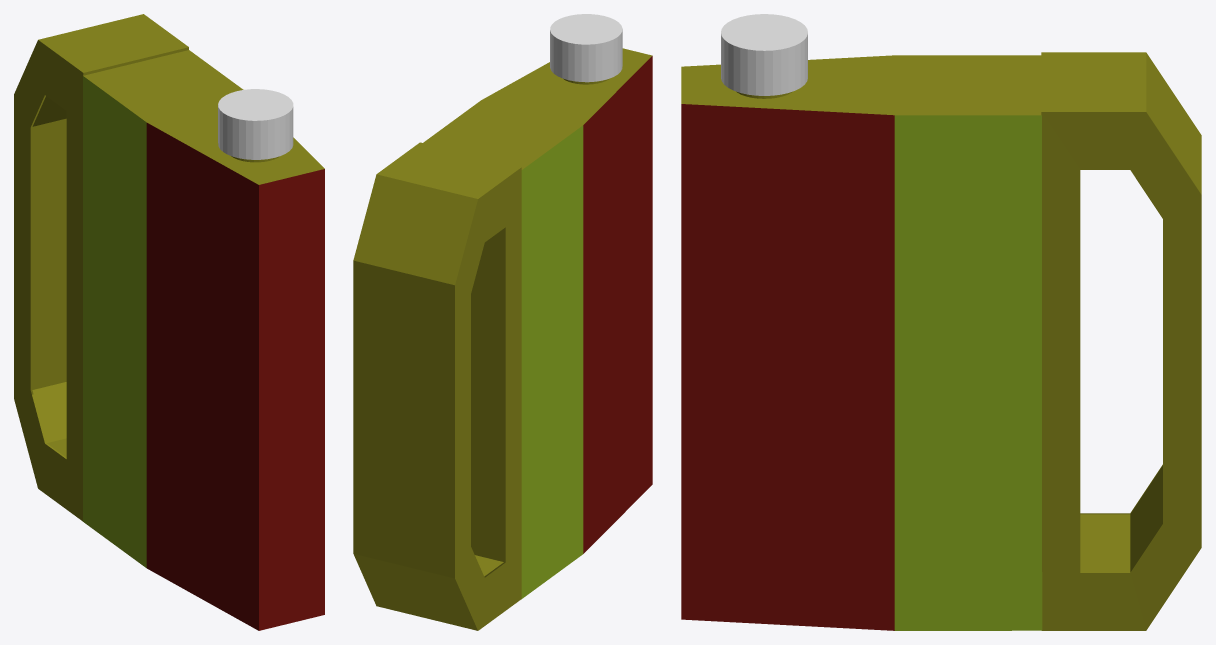
Rendered from botolOliDecor.fbx.
3 renders of one model, left to right at view 1: azimuth 30°, elevation 25°; view 2: azimuth 150°, elevation 25°; view 3: azimuth 270°, elevation 25°, orthographic. The views are drawn at different scales.
Visible parts, largest first — view 1: botolOli; view 2: botolOli; view 3: botolOli.
Boxes of the visible parts, box(x1,y1,x2,y2) form: botolOli: box(14, 14, 324, 630); botolOli: box(353, 14, 652, 630); botolOli: box(681, 14, 1201, 630).
Size of the model in its own units: 7.55 by 33.37 by 27.69.
